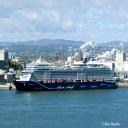cruises: (14, 54, 122, 93)
